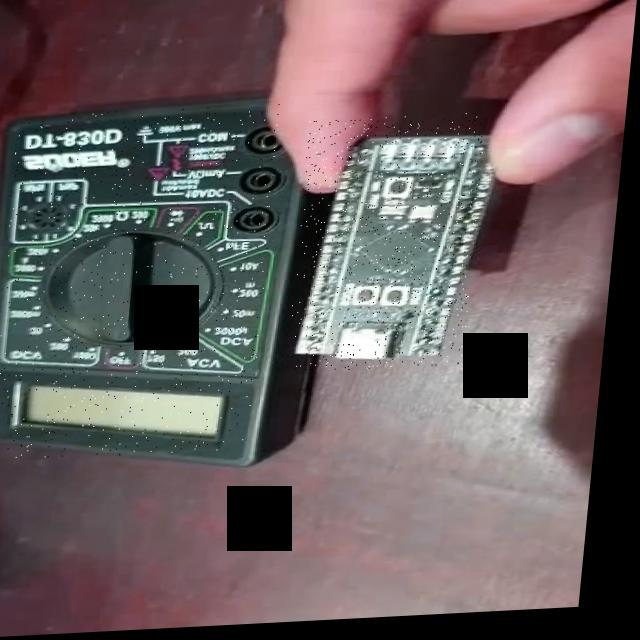multimeter: (0, 106, 284, 463)
stm32: (293, 118, 490, 377)
